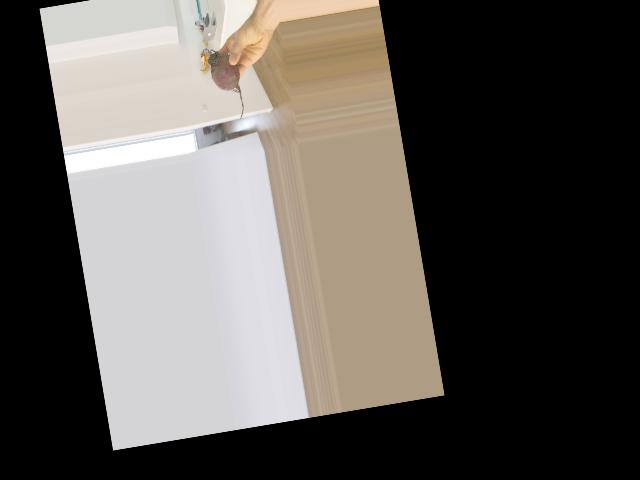beet: (206, 46, 247, 123)
